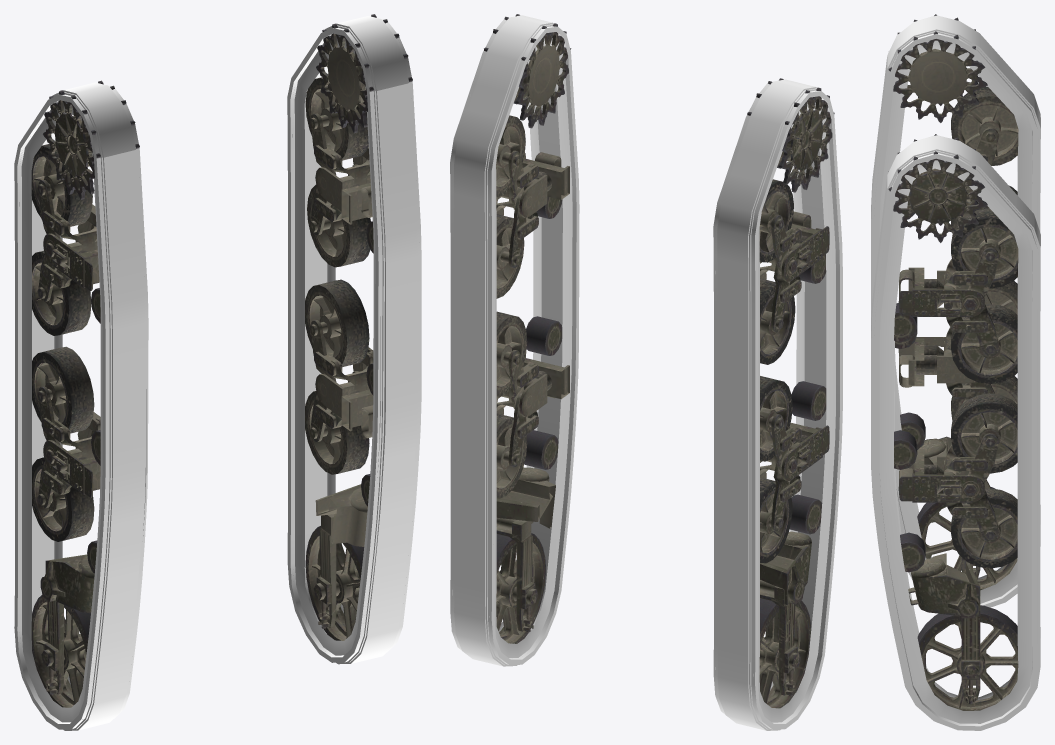
Rendered from Chassis.glb.
3 views of the same model, side by side, from view 1: azimuth 30°, elevation 25°; view 2: azimuth 150°, elevation 25°; view 3: azimuth 270°, elevation 25° (orthographic). The views are drawn at different scales.
Visible parts, largest first — view 1: set_1_group_0, set_0_group_0, set_2_group_0, set_3_group_0; view 2: set_0_group_0, set_1_group_0, set_2_group_0, set_3_group_0; view 3: set_3_group_0, set_1_group_0, set_2_group_0, set_0_group_0.
Boxes of the visible parts, box(x1,y1,x2,y2) form: set_1_group_0: box(287, 16, 421, 664); set_0_group_0: box(14, 82, 148, 730); set_2_group_0: box(31, 80, 139, 707); set_3_group_0: box(305, 14, 412, 640); set_0_group_0: box(713, 79, 842, 730); set_1_group_0: box(450, 15, 579, 666); set_2_group_0: box(747, 78, 834, 708); set_3_group_0: box(484, 14, 571, 643); set_3_group_0: box(888, 134, 1018, 710); set_1_group_0: box(871, 135, 1040, 730); set_2_group_0: box(888, 14, 1018, 590); set_0_group_0: box(871, 15, 1040, 607).
Size of the model in its own units: 2.26 by 4.23 by 1.12.
Materials: 4 (2 with a texture image).
